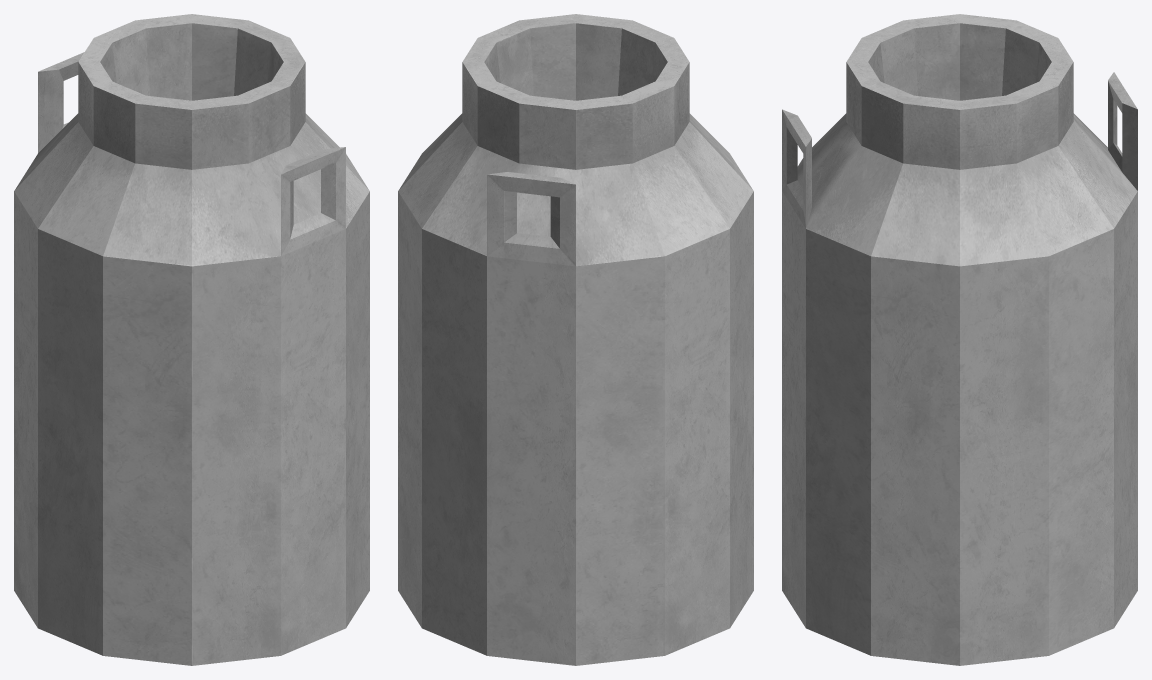
Rendered from Milk.fbx.
3 views of the same model, side by side, from view 1: azimuth 30°, elevation 25°; view 2: azimuth 150°, elevation 25°; view 3: azimuth 270°, elevation 25° (orthographic).
Visible parts, largest first — view 1: mlk; view 2: mlk; view 3: mlk.
Boxes of the visible parts, x1,y1,x2,y2 form: mlk: (14,14,369,665); mlk: (398,14,753,665); mlk: (782,14,1137,665).
Bounding box in the file's own units: 1.49 × 2.45 × 1.49.
